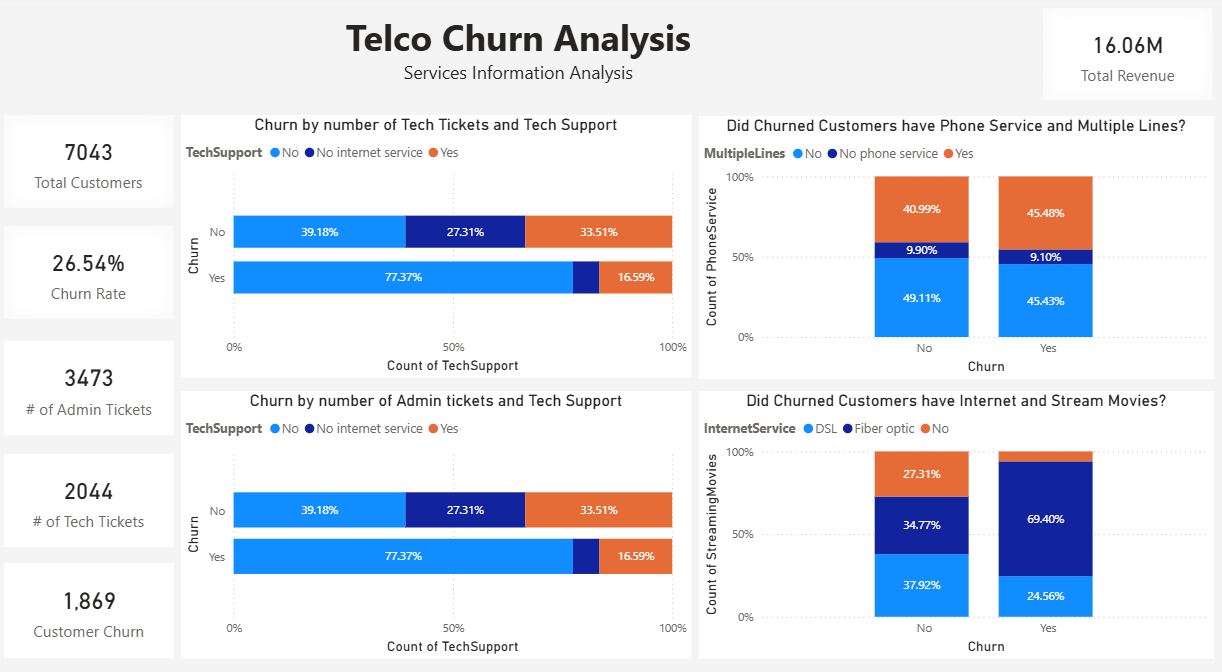

The page's visual inventory and layout, read from the dashboard file:
{"tool":"powerbi","page":{"name":"Services Overview","canvas":[1280,720],"ordinal":2},"visuals":[{"type":"card","title":"Total Customers","fields":{"Values":["Telco Churn Dataset.Total Customers"]},"box":[9,124.4,177,97.5],"z":0},{"type":"card","title":"Churn Rate","fields":{"Values":["Telco Churn Dataset.Churn Rate"]},"box":[9.2,239.9,177,97.5],"z":1000},{"type":"hundredPercentStackedColumnChart","title":"Did Churned Customers have Phone Service and Multiple Lines?","fields":{"Series":["Telco Churn Dataset.MultipleLines"],"Category":["Telco Churn Dataset.Churn"],"Y":["CountNonNull(Telco Churn Dataset.PhoneService)"]},"box":[733.8,125,536.6,274.4],"z":2000},{"type":"hundredPercentStackedBarChart","title":"Churn by number of Admin tickets and Tech Support","fields":{"Category":["Telco Churn Dataset.Churn"],"Y":["CountNonNull(Telco Churn Dataset.TechSupport)"],"Series":["Telco Churn Dataset.TechSupport"]},"box":[193.6,411.6,531.7,279.3],"z":3000},{"type":"textbox","box":[8.9,12.7,1072.2,96.3],"z":4000},{"type":"card","fields":{"Values":["Telco Churn Dataset.# of Tech Tickets"]},"box":[9.2,477.2,177,97.5],"z":5000},{"type":"card","fields":{"Values":["Sum(Telco Churn Dataset.Churn Binary)"]},"box":[9,591.4,177,98.8],"z":6000},{"type":"hundredPercentStackedBarChart","title":"Churn by number of Tech Tickets and Tech Support","fields":{"Series":["Telco Churn Dataset.TechSupport"],"Y":["CountNonNull(Telco Churn Dataset.TechSupport)"],"Category":["Telco Churn Dataset.Churn"]},"box":[193.6,123.7,531.7,274.4],"z":7000},{"type":"hundredPercentStackedColumnChart","title":"Did Churned Customers have Internet and Stream Movies?","fields":{"Category":["Telco Churn Dataset.Churn"],"Series":["Telco Churn Dataset.InternetService"],"Y":["CountNonNull(Telco Churn Dataset.StreamingMovies)"]},"box":[733.8,411.6,536.6,279.3],"z":8000},{"type":"card","title":"Total Revenue","fields":{"Values":["Telco Churn Dataset.Total Revenue"]},"box":[1092.4,12.7,177.4,96.3],"z":9000},{"type":"card","fields":{"Values":["Telco Churn Dataset.# of Admin Tickets"]},"box":[8.9,359.9,177.4,97.6],"z":10000}]}

Visuals, with their boxes in screenshot pixels (x1, y1, x2, y2), scaled from the page's 1280x720 canvas onto the 1222x672 screenshot:
"Total Customers" card: {"left": 9, "top": 116, "right": 178, "bottom": 207}
"Churn Rate" card: {"left": 9, "top": 224, "right": 178, "bottom": 315}
"Did Churned Customers have Phone Service and Multiple Lines?" hundredPercentStackedColumnChart: {"left": 701, "top": 117, "right": 1213, "bottom": 373}
"Churn by number of Admin tickets and Tech Support" hundredPercentStackedBarChart: {"left": 185, "top": 384, "right": 692, "bottom": 645}
textbox: {"left": 8, "top": 12, "right": 1032, "bottom": 102}
card - Telco Churn Dataset.# of Tech Tickets: {"left": 9, "top": 445, "right": 178, "bottom": 536}
card - Sum(Telco Churn Dataset.Churn Binary): {"left": 9, "top": 552, "right": 178, "bottom": 644}
"Churn by number of Tech Tickets and Tech Support" hundredPercentStackedBarChart: {"left": 185, "top": 115, "right": 692, "bottom": 372}
"Did Churned Customers have Internet and Stream Movies?" hundredPercentStackedColumnChart: {"left": 701, "top": 384, "right": 1213, "bottom": 645}
"Total Revenue" card: {"left": 1043, "top": 12, "right": 1212, "bottom": 102}
card - Telco Churn Dataset.# of Admin Tickets: {"left": 8, "top": 336, "right": 178, "bottom": 427}
